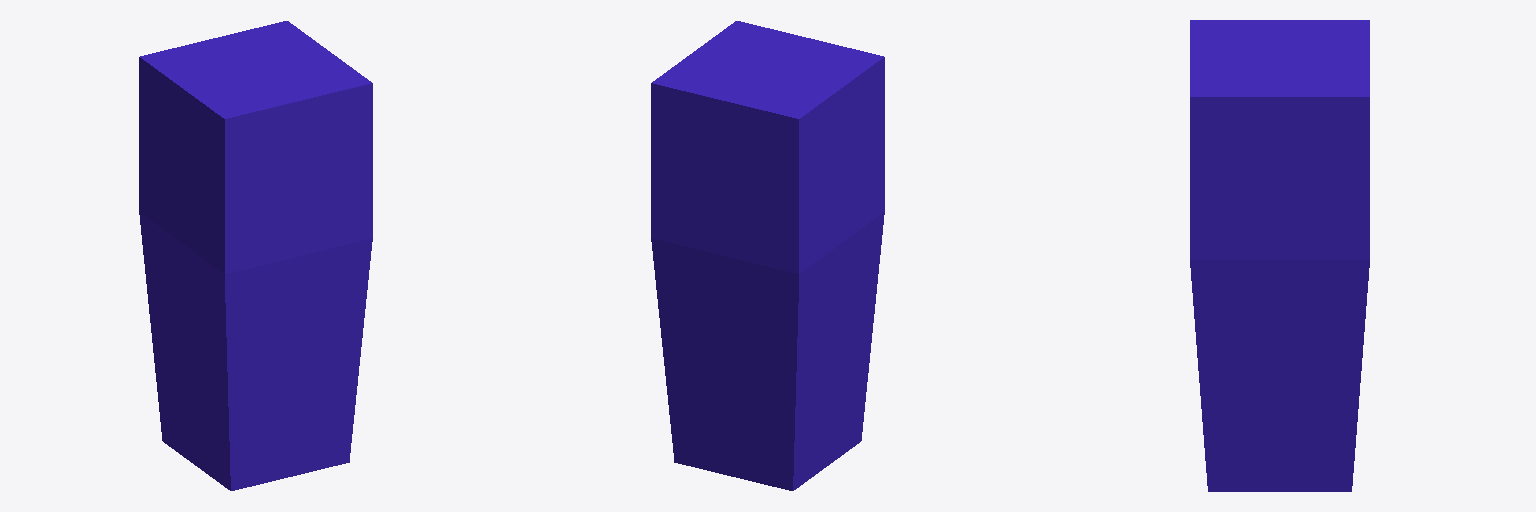
The robot description file, URDF, robot "step_25_link_1.obj":
<robot name="step_25_link_1.obj">
	<link name="link0">
		<visual>
			<origin xyz="0 0 0" rpy="0 0 0" />
			<geometry>
				<mesh filename="step_25_link_1.obj" scale="1.0 1.0 1.0" />
			</geometry>
			<material name="texture">
				<color rgba="0.3 0.2 0.8 0.5" />
			</material>
		</visual>
		<inertial>
			<mass value="0" />
			<inertia ixx="0.0" ixy="0.0" ixz="0.0" iyy="0.0" iyz="0.0" izz="0.0" />
		</inertial>
	<collision><geometry><mesh filename="step_25_link_1.obj" /></geometry></collision></link>
</robot>

--- Render facts (derived) ---
3 views of the same robot in one strip: view 1: azimuth 30°, elevation 25°; view 2: azimuth 150°, elevation 25°; view 3: azimuth 270°, elevation 25° (orthographic).
Model step_25_link_1.obj with 1 links and 0 joints (none), rooted at link0, posed every joint at zero.
Visible links, largest first — view 1: link0; view 2: link0; view 3: link0.
Boxes of the visible links, box(x1,y1,x2,y2) form: link0: box(139, 21, 372, 490); link0: box(651, 21, 884, 490); link0: box(1190, 20, 1369, 491).
Bounding box of the posed robot: 0.1 × 0.1 × 0.2464 m (x, y, z).
1 mesh visuals loaded from 1 distinct referenced files (1 OBJ).